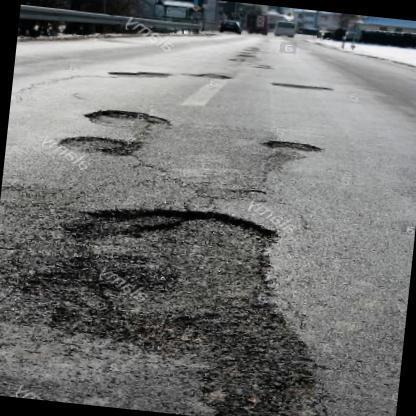pothole: (1, 204, 318, 416), (86, 107, 172, 132), (57, 135, 140, 158), (268, 139, 322, 154)
